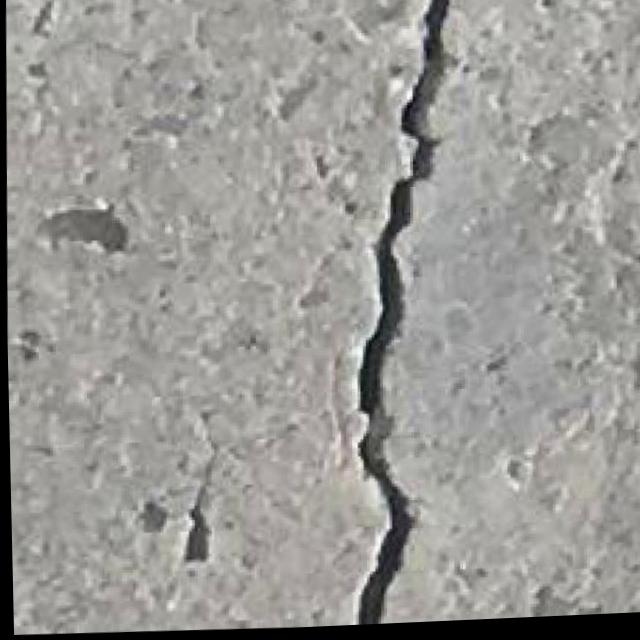Crack: (304, 0, 476, 629)
